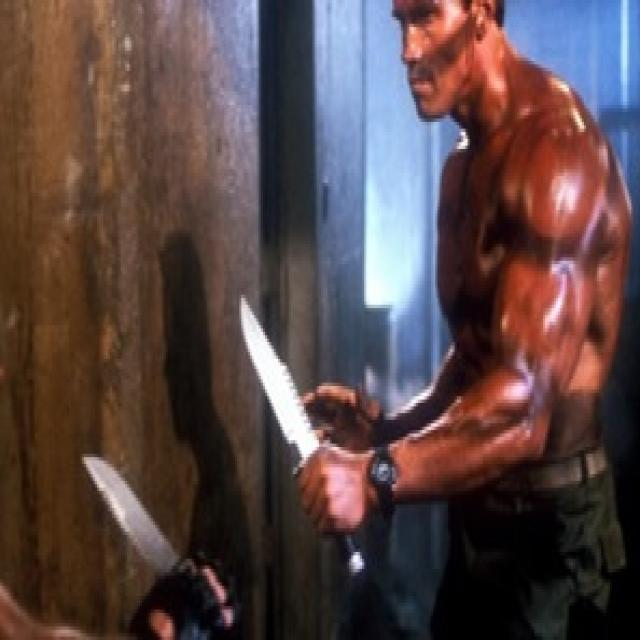knife: (237, 293, 372, 581), (81, 449, 182, 582)
